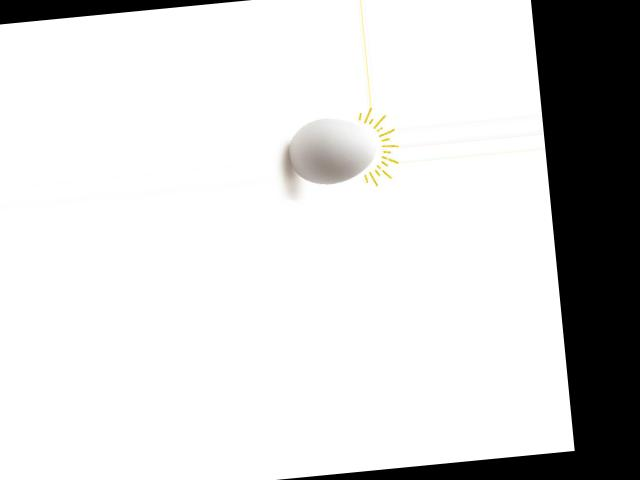egg: (286, 113, 378, 187)
